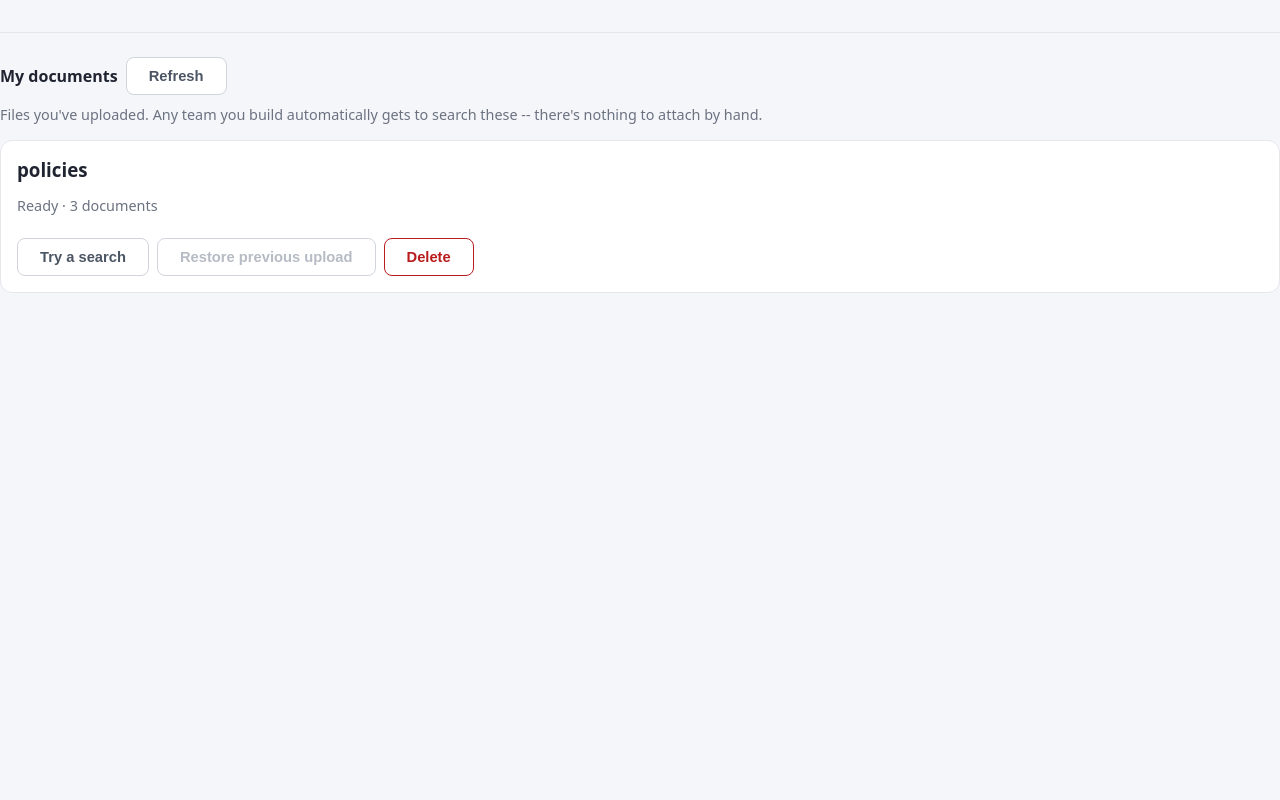
it: KnowledgeBasesPanel › shows a refused delete's message on the row it belongs to
Step 1. Click the button "Delete" → click(429, 257), box [384,238,474,276]
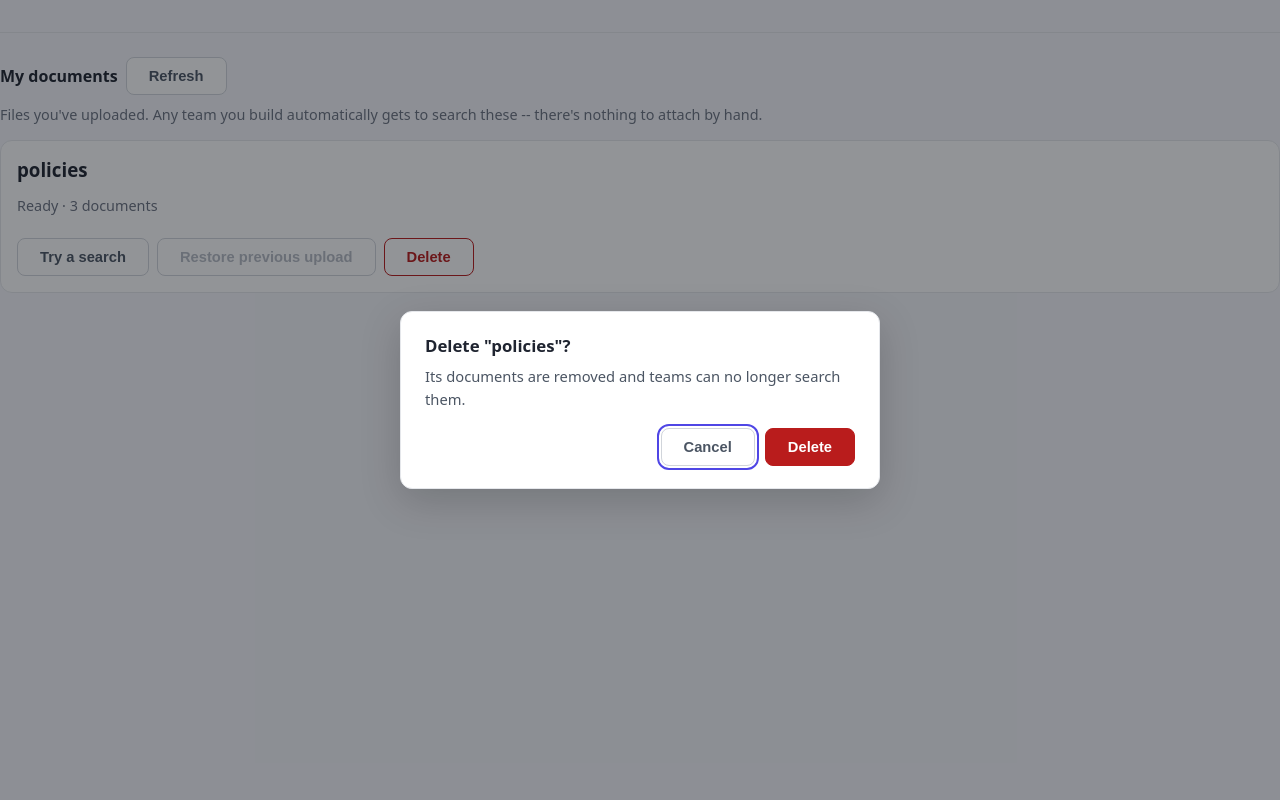
Step 2. Click the button "Delete" → click(810, 447), box [765,428,855,466]
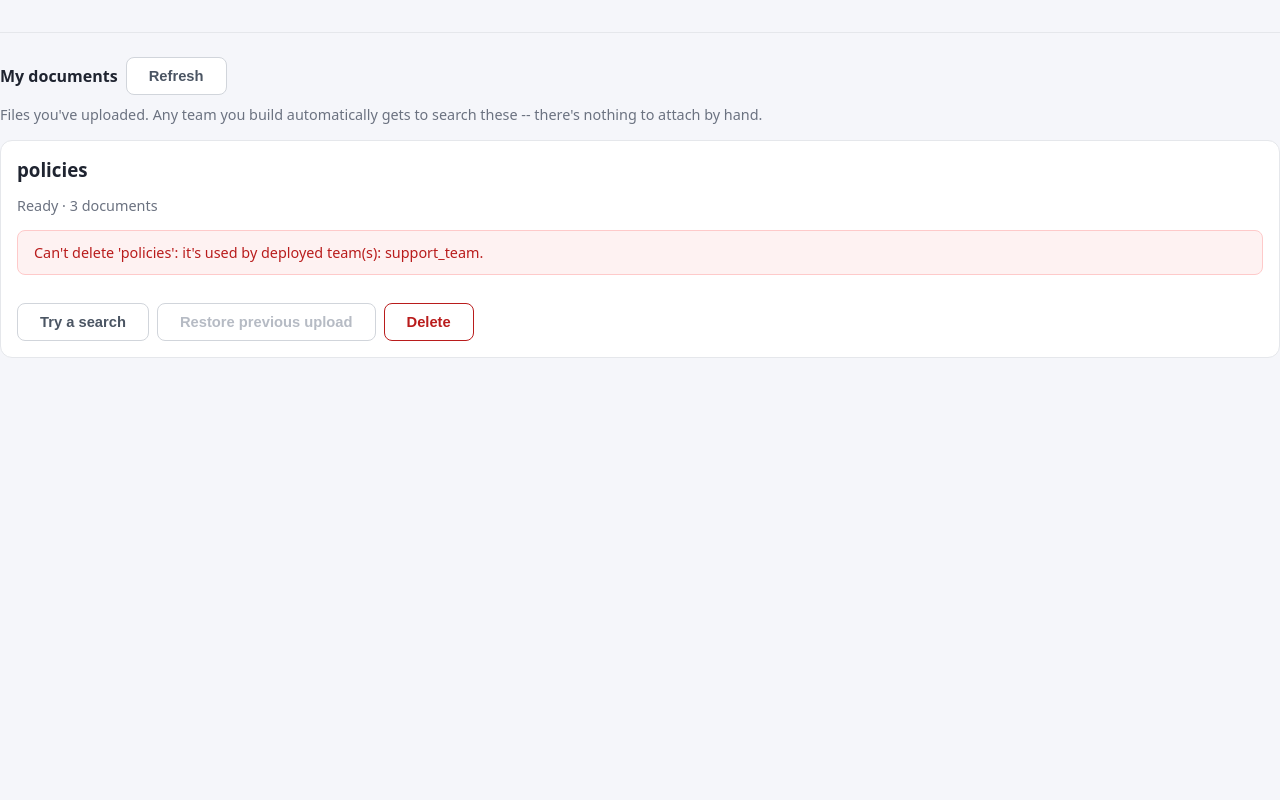
expect the heading "policies" is shown: met, box [17,157,88,182]
expect the text "used by deployed team(s): support_team" is shown: met, box [34,243,483,262]
